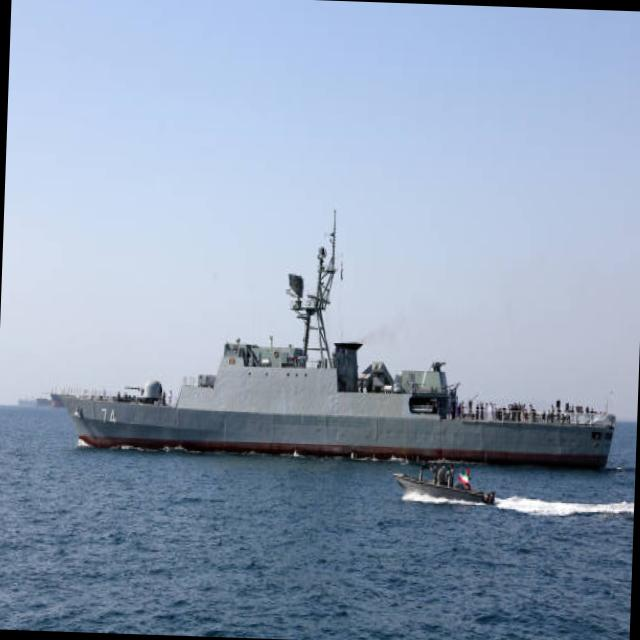Military: (49, 209, 617, 473)
